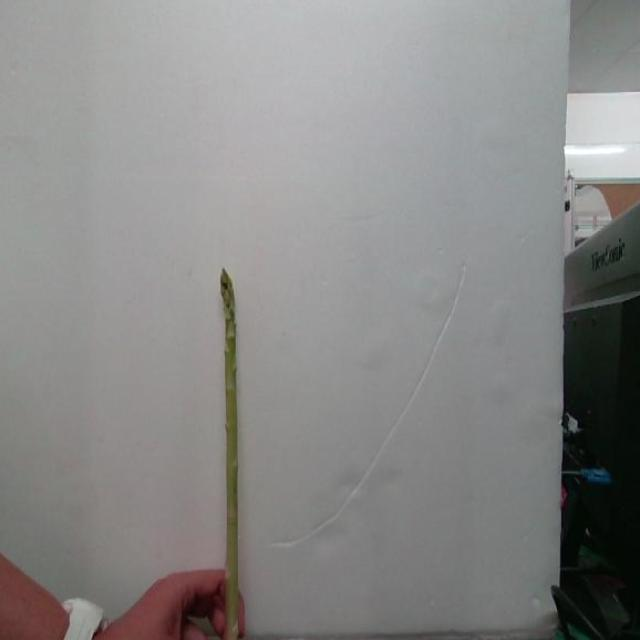aspargus: (219, 272, 246, 640)
